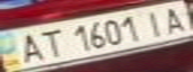0: (103, 16, 127, 46)
1: (118, 11, 145, 43), (66, 20, 90, 52)
6: (87, 18, 109, 50)
A: (9, 30, 48, 64), (154, 3, 193, 35)
I: (139, 7, 175, 37)
T: (33, 26, 66, 60)
